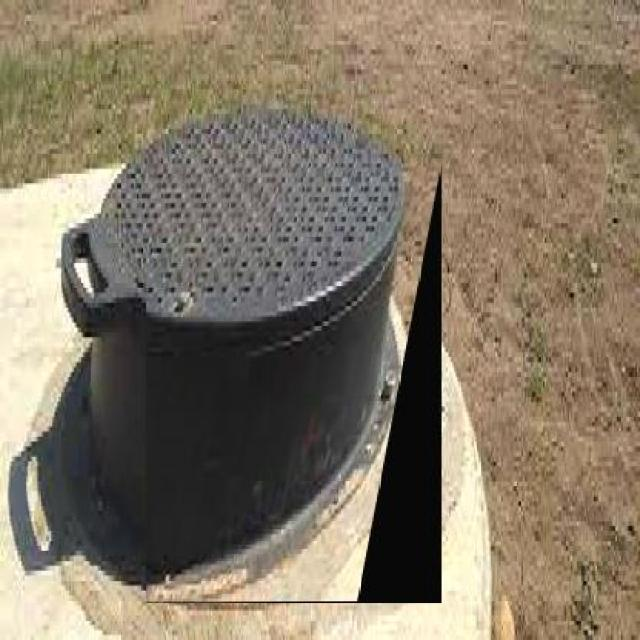Manhole: (55, 96, 442, 601)
